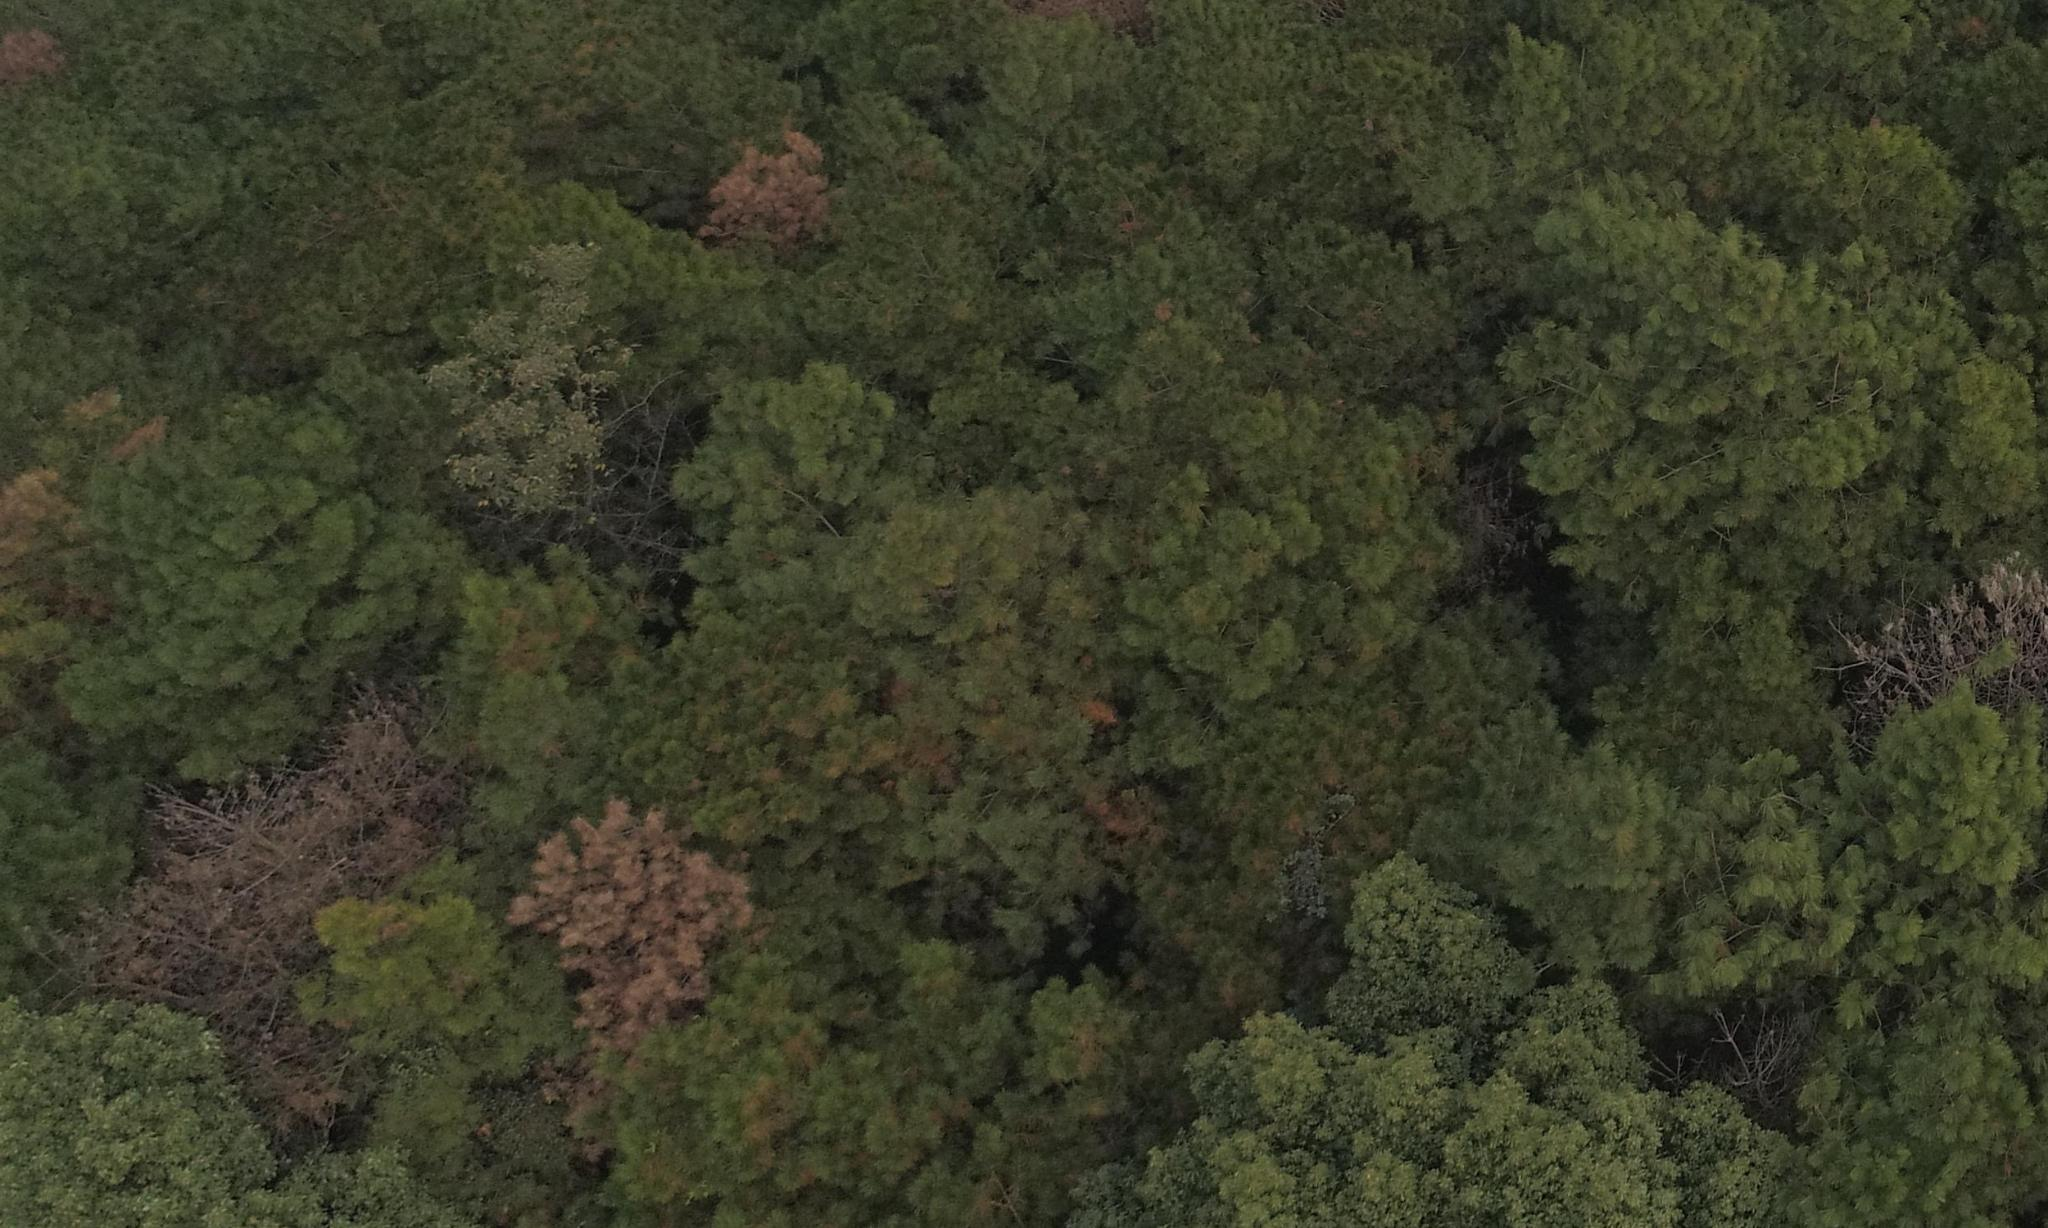heavy: (510, 817, 744, 1095), (700, 132, 833, 254)
